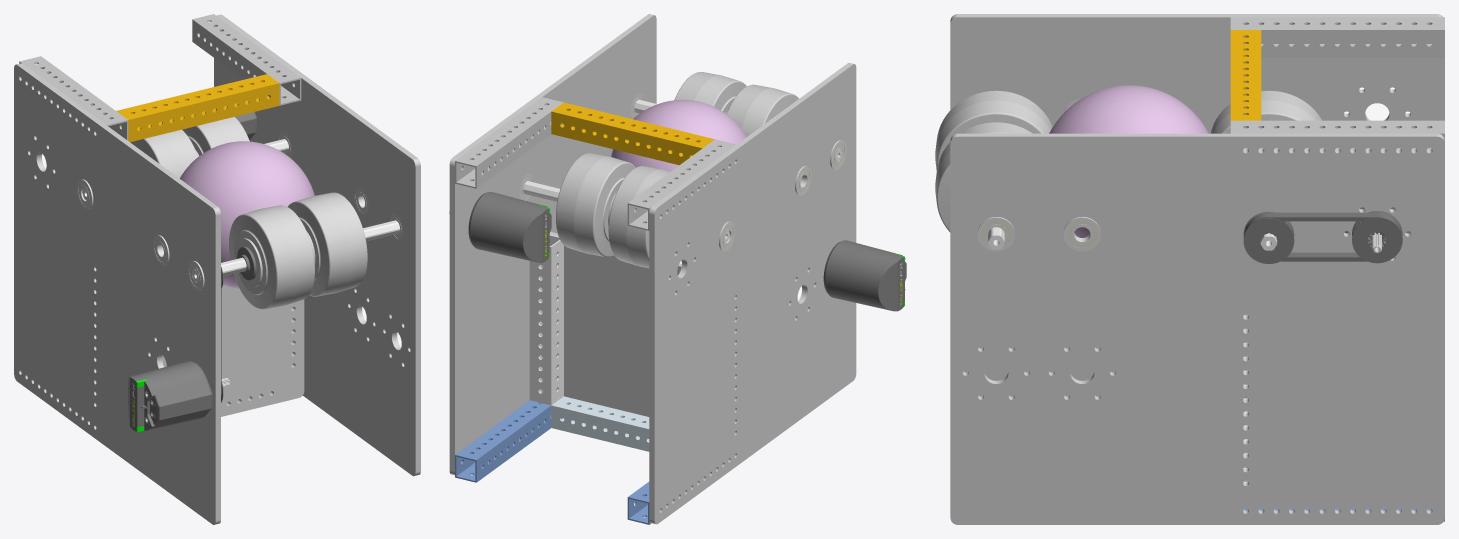
File: launcher.glb
3 renders of one model, left to right at view 1: azimuth 30°, elevation 25°; view 2: azimuth 150°, elevation 25°; view 3: azimuth 270°, elevation 25°, orthographic. The views are drawn at different scales.
Visible parts, largest first — view 1: Part 12, Part 11, 4" Colson Performa Wheel (2" WD, 1.1875" Bore) (×4), Tube 1"x1"x7" (×3), Part 10, FRC Game Piece, Kraken X60 Brushless Motor, 1/2" ThunderHex (10.25 in); view 2: Part 12, Part 11, Tube 1"x1"x7" (×7), Part 10, 4" Colson Performa Wheel (2" WD, 1.1875" Bore) (×4), Kraken X60 Brushless Motor (×2), FRC Game Piece, 1/2" ThunderHex (10.25 in); view 3: Part 11, Part 12, Tube 1"x1"x7" (×3), 4" Colson Performa Wheel (2" WD, 1.1875" Bore) (×3), FRC Game Piece, 60T 5M 9mm Wide Belt, 24t Custom HTD 5mm Pulley (0.375" Wide, SplineXS Insert), 24t Custom HTD 5mm Pulley (0.375" Wide, *0.505" Hex Bore), 1/2" Rounded Hex (13.75mm) ID Bearing (1.125" OD, 0.313" WD, (×2).
Boxes of the visible parts, x1,y1,x2,y2 form: Part 12: (14, 63, 220, 524); Part 11: (214, 14, 420, 476); 4" Colson Performa Wheel (2" WD, 1.1875" Bore) (×4): (130, 117, 367, 309); Tube 1"x1"x7" (×3): (19, 14, 301, 142); Part 10: (162, 285, 304, 416); FRC Game Piece: (180, 141, 314, 288); Kraken X60 Brushless Motor: (128, 361, 230, 431); 1/2" ThunderHex (10.25 in): (192, 220, 400, 282); Part 12: (649, 63, 856, 524); Part 11: (449, 14, 656, 474); Tube 1"x1"x7" (×7): (455, 97, 736, 524); Part 10: (549, 231, 681, 416); 4" Colson Performa Wheel (2" WD, 1.1875" Bore) (×4): (556, 72, 798, 268); Kraken X60 Brushless Motor (×2): (449, 191, 906, 311); FRC Game Piece: (611, 99, 746, 171); 1/2" ThunderHex (10.25 in): (523, 181, 729, 242); Part 11: (950, 133, 1444, 524); Part 12: (950, 14, 1444, 396); Tube 1"x1"x7" (×3): (1230, 17, 1444, 150); 4" Colson Performa Wheel (2" WD, 1.1875" Bore) (×3): (935, 90, 1321, 232); FRC Game Piece: (1049, 85, 1208, 237); 60T 5M 9mm Wide Belt: (1244, 212, 1401, 261); 24t Custom HTD 5mm Pulley (0.375" Wide, SplineXS Insert): (1352, 211, 1402, 263); 24t Custom HTD 5mm Pulley (0.375" Wide, *0.505" Hex Bore): (1243, 211, 1294, 263); 1/2" Rounded Hex (13.75mm) ID Bearing (1.125" OD, 0.313" WD, (×2): (977, 217, 1100, 251).
Bounding box in the file's own units: 0.347 × 0.3556 × 0.4232.
